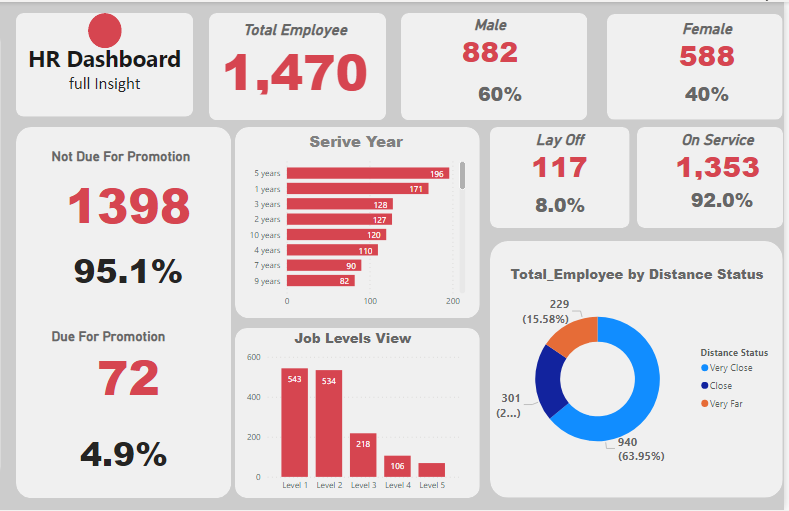

Layout of this report page (visuals, bound fields, positions):
{"tool":"powerbi","page":{"name":"Page 1","canvas":[1280,720],"ordinal":0},"visuals":[{"type":"shape","box":[0,14.2,171.5,687.4],"z":0},{"type":"shape","box":[192.8,15.6,250.9,147.4],"z":1000},{"type":"shape","box":[466.3,15.6,250.9,151.7],"z":2000},{"type":"shape","box":[738.4,15.6,263.6,151.7],"z":3000},{"type":"shape","box":[1030.4,17,249.4,150.2],"z":4000},{"type":"shape","box":[192.8,177.2,304.7,525.8],"z":5000},{"type":"shape","box":[503.1,177.2,347.2,270.7],"z":6000},{"type":"shape","box":[503.1,462,347.2,240.9],"z":7000},{"type":"shape","box":[864.6,177.2,198.4,143.1],"z":8000},{"type":"shape","box":[1072.9,177.2,206.9,143.1],"z":9000},{"type":"shape","box":[864.6,338.7,415.3,364.3],"z":10000},{"type":"textbox","box":[192.8,52.4,250.9,92.1],"z":11000},{"type":"shape","box":[294.8,15.6,48.2,49.6],"z":12000},{"type":"card","title":"Total Employee","fields":{"Values":["All Measures.total_employee"]},"box":[479.1,26.9,218.3,109.1],"z":13000},{"type":"card","title":"Male","fields":{"Values":["All Measures.male"]},"box":[812.1,19.8,104.9,73.7],"z":14000},{"type":"card","title":"Male","fields":{"Values":["All Measures.% male"]},"box":[826.3,99.2,104.9,63.8],"z":15000},{"type":"card","title":"Female","fields":{"Values":["All Measures.female"]},"box":[1119.7,25.5,104.9,73.7],"z":16000},{"type":"card","title":"Male","fields":{"Values":["All Measures.% female"]},"box":[1119.7,99.2,104.9,63.8],"z":17000},{"type":"card","title":"Not Due For Promotion","fields":{"Values":["All Measures.Not Due For Promotion"]},"box":[238.1,206.9,228.2,131.8],"z":18000},{"type":"card","title":"Due For Promotion","fields":{"Values":["All Measures.Due For Promotion"]},"box":[238.1,462,228.2,107.7],"z":19000},{"type":"card","fields":{"Values":["All Measures.promotion%"]},"box":[250.9,582.5,189.9,113.4],"z":20000},{"type":"card","fields":{"Values":["All Measures.Notpromotion%"]},"box":[238.1,323.1,228.2,113.4],"z":21000},{"type":"barChart","title":"Serive Year","fields":{"Category":["HR Analytics Data (2).service years"],"Y":["All Measures.total_employee"]},"box":[514.5,182.8,320.3,259.4],"z":22000},{"type":"actionButton","box":[0,0,100,40],"z":23000},{"type":"columnChart","title":"Job Levels View","fields":{"Category":["HR Analytics Data (2).Job_levels"],"Y":["All Measures.total_employee"]},"box":[514.5,462,311.8,240.9],"z":24000},{"type":"card","title":"On Service","fields":{"Values":["All Measures.on service"]},"box":[1119.7,182.8,134.6,73.7],"z":25000},{"type":"card","title":"Lay Off","fields":{"Values":["All Measures.lay off"]},"box":[895.7,182.8,134.6,73.7],"z":26000},{"type":"card","title":"Male","fields":{"Values":["All Measures.%on service"]},"box":[1132.4,249.4,121.9,63.8],"z":27000},{"type":"card","title":"Male","fields":{"Values":["All Measures.%lay off"]},"box":[911.3,256.5,104.9,63.8],"z":28000},{"type":"donutChart","title":"Total_Employee by Distance Status","fields":{"Category":["HR Analytics Data (2).Distance Status"],"Y":["All Measures.total_employee"]},"box":[866,371.3,413.9,299.1],"z":29000}]}

Visuals, with their boxes on the page's 1280x720 design canvas (x1, y1, x2, y2). These are canvas units, not pixel positions in the 789x511 screenshot, which may show the page scaled, cropped or inside an application window:
shape: [x1=0, y1=14, x2=172, y2=702]
shape: [x1=193, y1=16, x2=444, y2=163]
shape: [x1=466, y1=16, x2=717, y2=167]
shape: [x1=738, y1=16, x2=1002, y2=167]
shape: [x1=1030, y1=17, x2=1280, y2=167]
shape: [x1=193, y1=177, x2=498, y2=703]
shape: [x1=503, y1=177, x2=850, y2=448]
shape: [x1=503, y1=462, x2=850, y2=703]
shape: [x1=865, y1=177, x2=1063, y2=320]
shape: [x1=1073, y1=177, x2=1280, y2=320]
shape: [x1=865, y1=339, x2=1280, y2=703]
textbox: [x1=193, y1=52, x2=444, y2=144]
shape: [x1=295, y1=16, x2=343, y2=65]
"Total Employee" card: [x1=479, y1=27, x2=697, y2=136]
"Male" card: [x1=812, y1=20, x2=917, y2=94]
"Male" card: [x1=826, y1=99, x2=931, y2=163]
"Female" card: [x1=1120, y1=26, x2=1225, y2=99]
"Male" card: [x1=1120, y1=99, x2=1225, y2=163]
"Not Due For Promotion" card: [x1=238, y1=207, x2=466, y2=339]
"Due For Promotion" card: [x1=238, y1=462, x2=466, y2=570]
card - All Measures.promotion%: [x1=251, y1=582, x2=441, y2=696]
card - All Measures.Notpromotion%: [x1=238, y1=323, x2=466, y2=436]
"Serive Year" barChart: [x1=514, y1=183, x2=835, y2=442]
actionButton: [x1=0, y1=0, x2=100, y2=40]
"Job Levels View" columnChart: [x1=514, y1=462, x2=826, y2=703]
"On Service" card: [x1=1120, y1=183, x2=1254, y2=256]
"Lay Off" card: [x1=896, y1=183, x2=1030, y2=256]
"Male" card: [x1=1132, y1=249, x2=1254, y2=313]
"Male" card: [x1=911, y1=256, x2=1016, y2=320]
"Total_Employee by Distance Status" donutChart: [x1=866, y1=371, x2=1280, y2=670]
